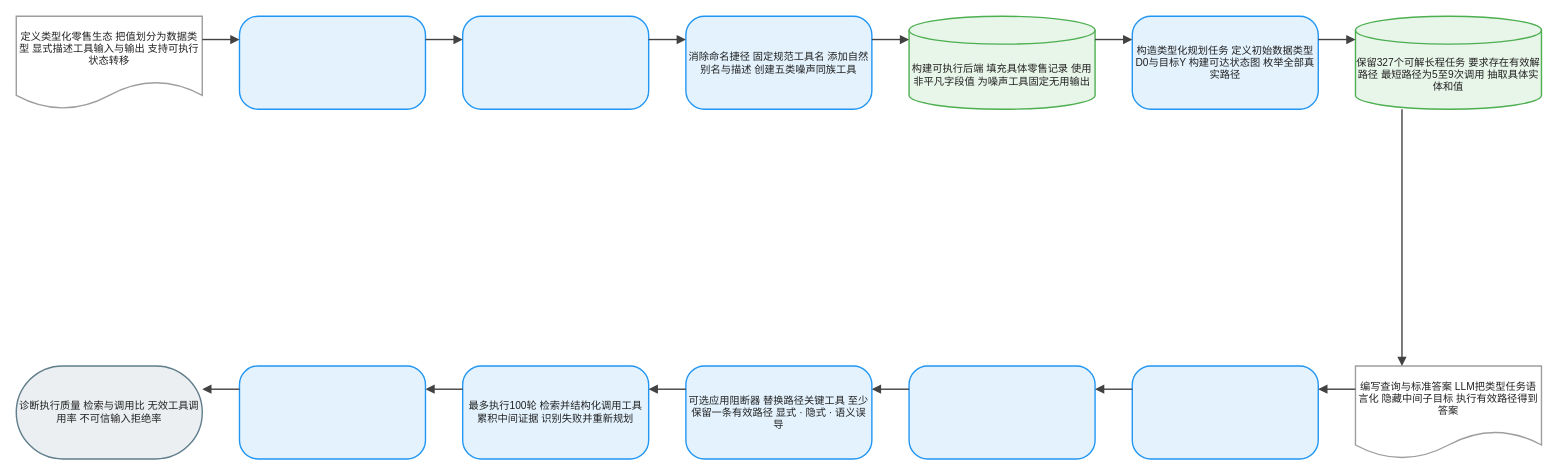
Some shapes in this 1559 by 476 pixel diagram are drawn without their labels. Each missing label, with the box of its shape:
初始化交互运行时 跟踪隐藏类型状态 跟踪已发现工具与值 支持检索 · 调用 · 回答: (1131, 365, 1319, 459)
合成1,665个可执行工具 组合1至5种输入数据类型 产生一种输出数据类型 过滤不合理或重复工具: (462, 15, 649, 110)
检索受限工具子集 按输入或输出类型搜索 桥接输入到输出需求 最多返回30个候选工具: (908, 365, 1095, 459)
生成并过滤56种数据类型 LLM提出零售数据概念 过滤模糊或冗余概念 保留真实运营数据: (238, 15, 426, 110)
衡量完成与探索 最终答案Accuracy EGT数据类型精度 · 平均轮数 平均探索数据类型数: (238, 365, 426, 459)
